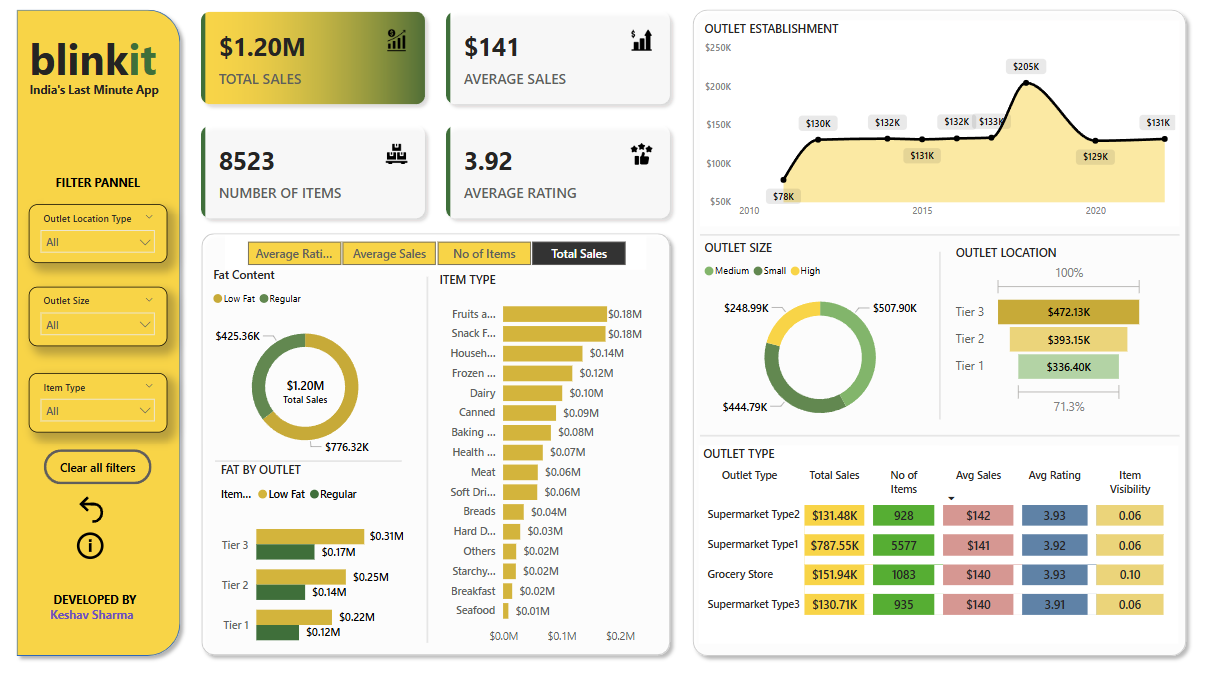

This screenshot's page, from the dashboard's own definition file:
{"tool":"powerbi","page":{"name":"Page 1","canvas":[1400,800],"ordinal":0},"visuals":[{"type":"shape","box":[15,15,205,756.7],"z":0},{"type":"textbox","box":[34.5,43.5,157,92.8],"z":1000},{"type":"textbox","box":[34.5,101.9,172.3,34.5],"z":2000},{"type":"cardVisual","fields":{"Data":["BlinkIT Grocery Data.Total Sales","BlinkIT Grocery Data.Average Sales","BlinkIT Grocery Data.Number of Items","BlinkIT Grocery Data.Average Rating"]},"box":[218.3,10,570,270],"z":3000},{"type":"shape","box":[226.7,271.7,553.3,500],"z":4000},{"type":"donutChart","title":"Fat Content","fields":{"Y":["BlinkIT Grocery Data.Total Sales"],"Category":["BlinkIT Grocery Data.Item Fat Content"]},"box":[244.6,318.2,220.6,229.6],"z":5000},{"type":"slicer","fields":{"Values":["Metrics.Metrics"]},"box":[262.7,282.2,481.8,39],"z":6000},{"type":"cardVisual","fields":{"Data":["BlinkIT Grocery Data.Total Sales"]},"box":[309,425,92,69],"z":7000},{"type":"clusteredBarChart","title":"FAT BY OUTLET","fields":{"Y":["BlinkIT Grocery Data.Total Sales"],"Category":["BlinkIT Grocery Data.Outlet Location Type"],"Series":["BlinkIT Grocery Data.Item Fat Content"]},"box":[252.1,541.8,219.1,229.6],"z":8000},{"type":"shape","box":[251.7,455,213.3,170],"z":9000},{"type":"shape","box":[400,330,188.3,418.3],"z":10000},{"type":"barChart","title":"ITEM TYPE","fields":{"Y":["BlinkIT Grocery Data.Total Sales"],"Category":["BlinkIT Grocery Data.Item Type"]},"box":[503.3,325,258.3,435],"z":11000},{"type":"shape","box":[788.3,15,581.7,756.7],"z":12000},{"type":"lineChart","title":"OUTLET ESTABLISHMENT","fields":{"Category":["BlinkIT Grocery Data.Outlet Establishment Year"],"Y":["BlinkIT Grocery Data.Total Sales"]},"box":[805,36.7,548.3,235],"z":13000},{"type":"shape","box":[805,196.7,548.3,170],"z":14000},{"type":"donutChart","title":"OUTLET SIZE","fields":{"Y":["BlinkIT Grocery Data.Total Sales"],"Category":["BlinkIT Grocery Data.Outlet Size"]},"box":[805,286.7,275,225],"z":15000},{"type":"shape","box":[985,301.7,188.3,191.7],"z":16000},{"type":"funnel","title":"OUTLET LOCATION","fields":{"Y":["BlinkIT Grocery Data.Total Sales"],"Category":["BlinkIT Grocery Data.Outlet Location Type"]},"box":[1093.3,293.3,225,200],"z":17000},{"type":"shape","box":[805,410,548.3,203.3],"z":18000},{"type":"pivotTable","title":"OUTLET TYPE","fields":{"Rows":["BlinkIT Grocery Data.Outlet Type"],"Values":["BlinkIT Grocery Data.Total Sales","BlinkIT Grocery Data.No of Items","BlinkIT Grocery Data.Average Sales","BlinkIT Grocery Data.Average Rating","Avg(BlinkIT Grocery Data.Item Visibility)"]},"box":[804.5,522.3,547.8,226.6],"z":19000},{"type":"slicer","fields":{"Values":["BlinkIT Grocery Data.Outlet Location Type"]},"box":[38.9,246.7,158.2,67],"z":20000},{"type":"slicer","fields":{"Values":["BlinkIT Grocery Data.Outlet Size"]},"box":[38.9,341.8,158.2,68.4],"z":21000},{"type":"slicer","fields":{"Values":["BlinkIT Grocery Data.Item Type"]},"box":[38.9,439.7,158.2,68.4],"z":22000},{"type":"textbox","box":[55.5,208.6,123.1,37.5],"z":23000},{"type":"actionButton","box":[90.1,576.3,54,40.5],"z":24000},{"type":"actionButton","box":[88.6,616.9,55.5,40.5],"z":25000},{"type":"actionButton","box":[56.3,526.8,123.3,40.2],"z":26000},{"type":"textbox","box":[55,685,131.4,63],"z":27000}]}

Visuals, with their boxes in screenshot pixels (x1, y1, x2, y2), scaled from the page's 1400x800 canvas onto the 1206x673 screenshot:
shape: l=13, t=13, r=190, b=649
textbox: l=30, t=37, r=165, b=115
textbox: l=30, t=86, r=178, b=115
cardVisual - BlinkIT Grocery Data.Total Sales x BlinkIT Grocery Data.Average Sales: l=188, t=8, r=679, b=236
shape: l=195, t=229, r=672, b=649
"Fat Content" donutChart: l=211, t=268, r=401, b=461
slicer - Metrics.Metrics: l=226, t=237, r=641, b=270
cardVisual - BlinkIT Grocery Data.Total Sales: l=266, t=358, r=345, b=416
"FAT BY OUTLET" clusteredBarChart: l=217, t=456, r=406, b=649
shape: l=217, t=383, r=401, b=526
shape: l=345, t=278, r=507, b=630
"ITEM TYPE" barChart: l=434, t=273, r=656, b=639
shape: l=679, t=13, r=1180, b=649
"OUTLET ESTABLISHMENT" lineChart: l=693, t=31, r=1166, b=229
shape: l=693, t=165, r=1166, b=308
"OUTLET SIZE" donutChart: l=693, t=241, r=930, b=430
shape: l=849, t=254, r=1011, b=415
"OUTLET LOCATION" funnel: l=942, t=247, r=1136, b=415
shape: l=693, t=345, r=1166, b=516
"OUTLET TYPE" pivotTable: l=693, t=439, r=1165, b=630
slicer - BlinkIT Grocery Data.Outlet Location Type: l=34, t=208, r=170, b=264
slicer - BlinkIT Grocery Data.Outlet Size: l=34, t=288, r=170, b=345
slicer - BlinkIT Grocery Data.Item Type: l=34, t=370, r=170, b=427
textbox: l=48, t=175, r=154, b=207
actionButton: l=78, t=485, r=124, b=519
actionButton: l=76, t=519, r=124, b=553
actionButton: l=48, t=443, r=155, b=477
textbox: l=47, t=576, r=161, b=629
